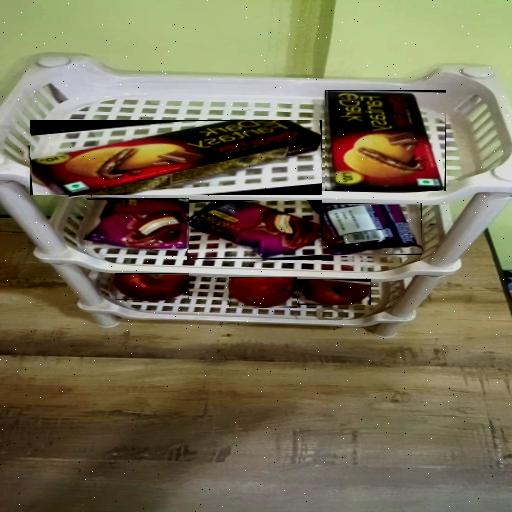Apple: (230, 278, 296, 307), (299, 279, 371, 305), (116, 274, 188, 300)
Choco Fills: (31, 120, 320, 195), (327, 91, 444, 191)
Choco Pie: (187, 201, 322, 259), (312, 204, 422, 255), (87, 200, 188, 249)
